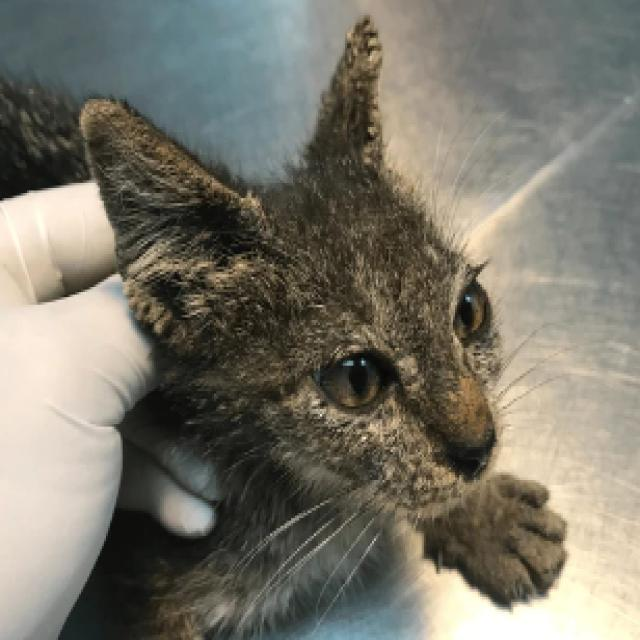Mange: (344, 12, 388, 66)
